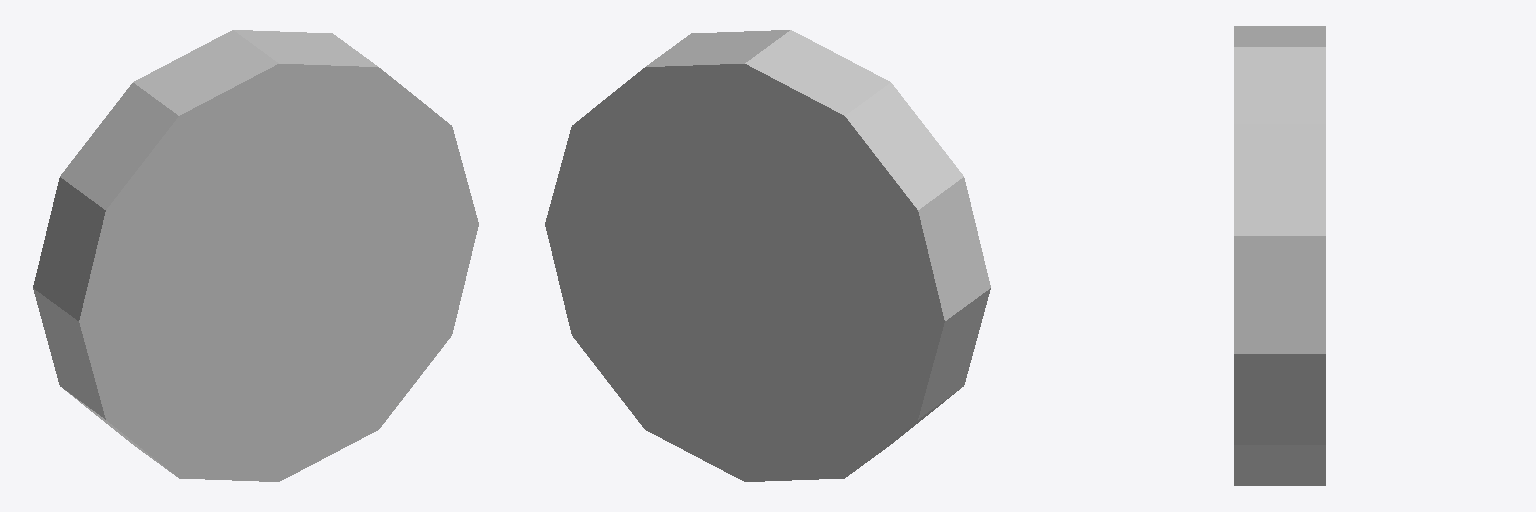
The model's file is target.obj.
3 views of the same model, side by side, from view 1: azimuth 30°, elevation 25°; view 2: azimuth 150°, elevation 25°; view 3: azimuth 270°, elevation 25° (orthographic).
Visible parts, largest first — view 1: Cylinder; view 2: Cylinder; view 3: Cylinder.
Part boxes in pixels (bbox=[...]): Cylinder: bbox=[33, 30, 478, 481]; Cylinder: bbox=[545, 30, 990, 481]; Cylinder: bbox=[1234, 26, 1325, 485].
Size of the model in its own units: 2 by 2 by 0.4.